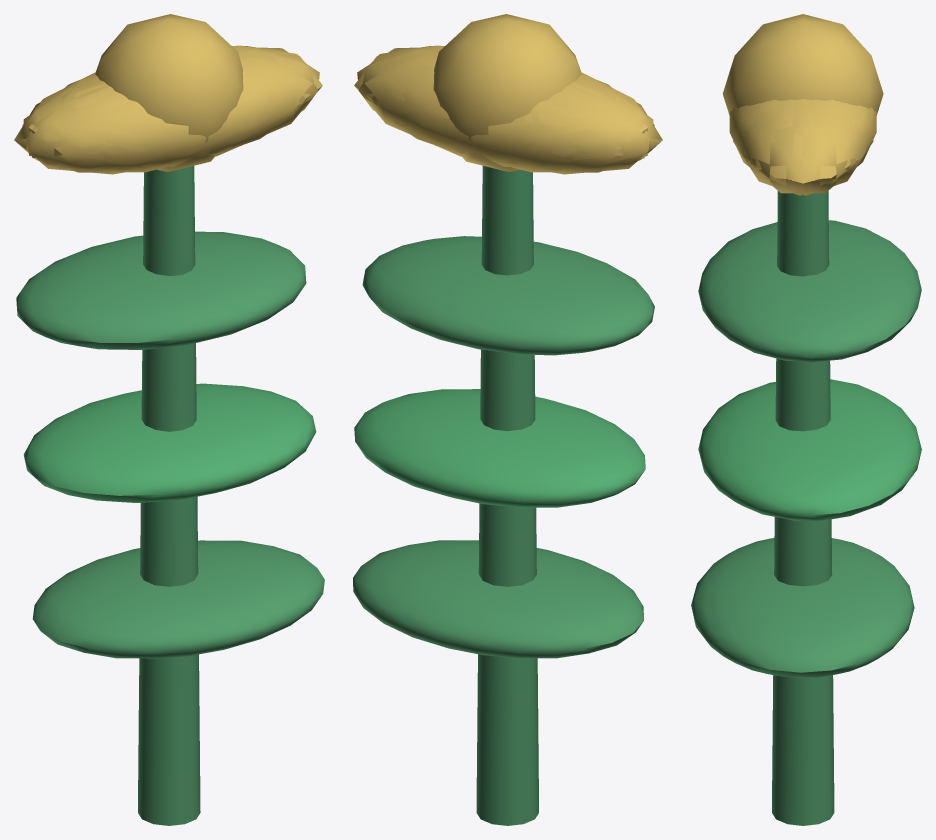
The model's file is adenium-obesum.glb.
3 renders of one model, left to right at view 1: azimuth 30°, elevation 25°; view 2: azimuth 150°, elevation 25°; view 3: azimuth 270°, elevation 25°, orthographic.
Visible parts, largest first — view 1: stem, leaf2, leaf0, leaf1, center, petal6, petal2, petal1, petal5, petal7, petal0; view 2: leaf2, leaf1, stem, leaf0, center, petal3, petal7, petal8, petal4, petal2, petal0; view 3: leaf1, leaf0, leaf2, stem, center, petal0, petal5, petal4, petal8, petal1.
Part boxes in pixels (x1=…): stem: x1=138, y1=166, x2=200, y2=825; leaf2: x1=16, y1=231, x2=306, y2=349; leaf0: x1=32, y1=540, x2=324, y2=658; leaf1: x1=23, y1=383, x2=316, y2=502; center: x1=95, y1=14, x2=243, y2=171; petal6: x1=32, y1=86, x2=229, y2=172; petal2: x1=23, y1=80, x2=176, y2=174; petal1: x1=101, y1=64, x2=305, y2=170; petal5: x1=164, y1=54, x2=322, y2=162; petal7: x1=14, y1=74, x2=114, y2=165; petal0: x1=236, y1=47, x2=319, y2=145; leaf2: x1=362, y1=236, x2=654, y2=355; leaf1: x1=354, y1=389, x2=645, y2=507; stem: x1=476, y1=166, x2=538, y2=825; leaf0: x1=353, y1=540, x2=643, y2=658; center: x1=433, y1=14, x2=581, y2=171; petal3: x1=447, y1=86, x2=645, y2=172; petal7: x1=500, y1=80, x2=653, y2=174; petal8: x1=371, y1=64, x2=575, y2=170; petal4: x1=354, y1=54, x2=512, y2=162; petal2: x1=562, y1=74, x2=662, y2=165; petal0: x1=357, y1=47, x2=440, y2=145; leaf1: x1=698, y1=379, x2=921, y2=520; leaf0: x1=691, y1=538, x2=914, y2=677; leaf2: x1=698, y1=220, x2=921, y2=362; stem: x1=772, y1=191, x2=834, y2=825; center: x1=722, y1=14, x2=883, y2=113; petal0: x1=743, y1=99, x2=862, y2=193; petal5: x1=732, y1=99, x2=815, y2=195; petal4: x1=791, y1=99, x2=873, y2=195; petal8: x1=826, y1=100, x2=876, y2=167; petal1: x1=729, y1=100, x2=779, y2=167.
Bounding box in the file's own units: 0.1541 × 0.3908 × 0.1033.
